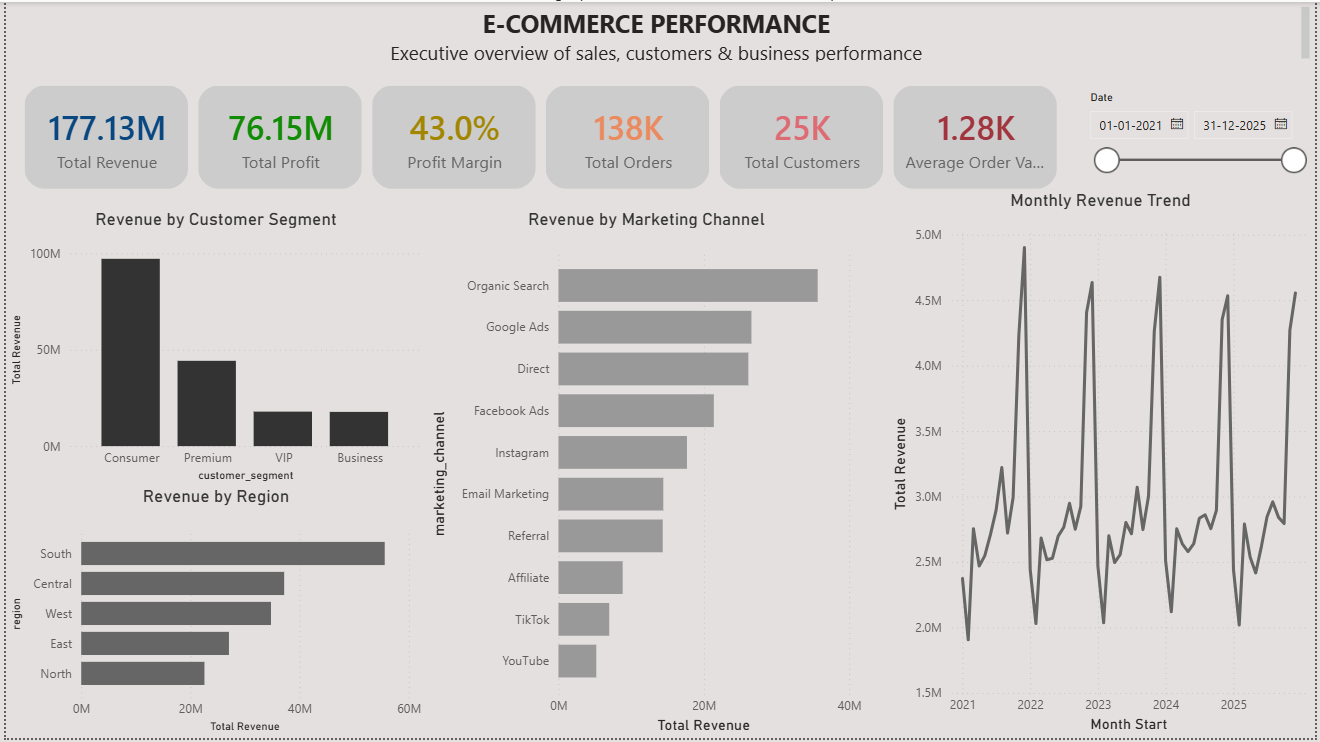

The dashboard page shown, as its layout file describes it:
{"tool":"powerbi","page":{"name":"EXECUTIVE OVERVIEW","canvas":[1280,720],"ordinal":0},"visuals":[{"type":"textbox","box":[0,0,1280,63.8],"z":0},{"type":"slicer","fields":{"Values":["DateTable.Date"]},"box":[1047.5,82.5,232.5,101.2],"z":1000},{"type":"cardVisual","fields":{"Data":["_Measure.Total Revenue","_Measure.Total Profit","_Measure.Profit Margin","_Measure.Total Orders","_Measure.Total Customers","_Measure.Average Order Value"]},"box":[0,63.8,1047.5,137.5],"z":2000},{"type":"clusteredColumnChart","title":"Revenue by Customer Segment","fields":{"Category":["ecommerce_sales_customer_analytics_150k.customer_segment"],"Y":["_Measure.Total Revenue"]},"box":[0,201.2,411.2,272.5],"z":3000},{"type":"barChart","title":"Revenue by Region","fields":{"Category":["ecommerce_sales_customer_analytics_150k.region"],"Y":["_Measure.Total Revenue"]},"box":[0,473.8,411.2,246.2],"z":4000},{"type":"lineChart","title":"Monthly Revenue Trend","fields":{"Category":["DateTable.Month Start"],"Y":["_Measure.Total Revenue"]},"box":[862.5,183.8,417.5,536.2],"z":5000},{"type":"barChart","title":"Revenue by Marketing Channel","fields":{"Category":["ecommerce_sales_customer_analytics_150k.marketing_channel"],"Y":["_Measure.Total Revenue"]},"box":[411.2,201.2,431.2,518.8],"z":6000}]}

Visuals, with their boxes in screenshot pixels (x1, y1, x2, y2), scaled from the page's 1280x720 canvas onto the 1320x742 screenshot:
textbox: box=[0, 0, 1319, 66]
slicer - DateTable.Date: box=[1080, 85, 1319, 189]
cardVisual - _Measure.Total Revenue x _Measure.Total Profit: box=[0, 66, 1080, 207]
"Revenue by Customer Segment" clusteredColumnChart: box=[0, 207, 424, 488]
"Revenue by Region" barChart: box=[0, 488, 424, 741]
"Monthly Revenue Trend" lineChart: box=[889, 189, 1319, 741]
"Revenue by Marketing Channel" barChart: box=[424, 207, 869, 741]
